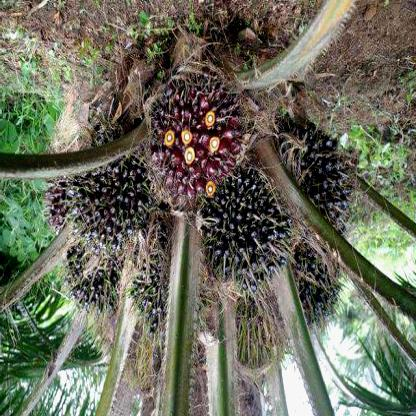1: (144, 80, 245, 202)
palm-oil: (198, 170, 289, 280), (280, 122, 361, 228), (73, 154, 151, 246), (62, 247, 127, 322), (290, 242, 341, 329), (134, 228, 171, 340), (47, 176, 70, 246)
